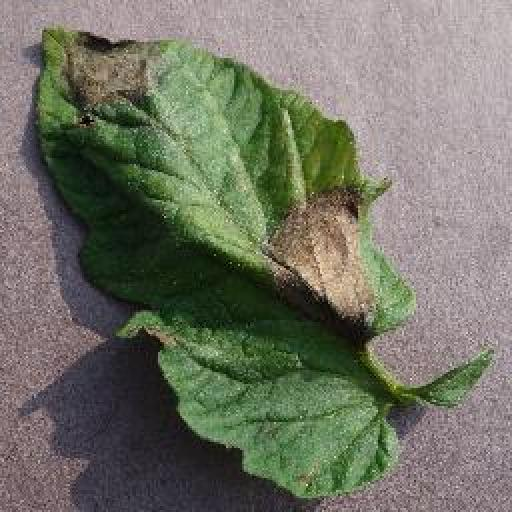Late Blight: (32, 24, 416, 499)
